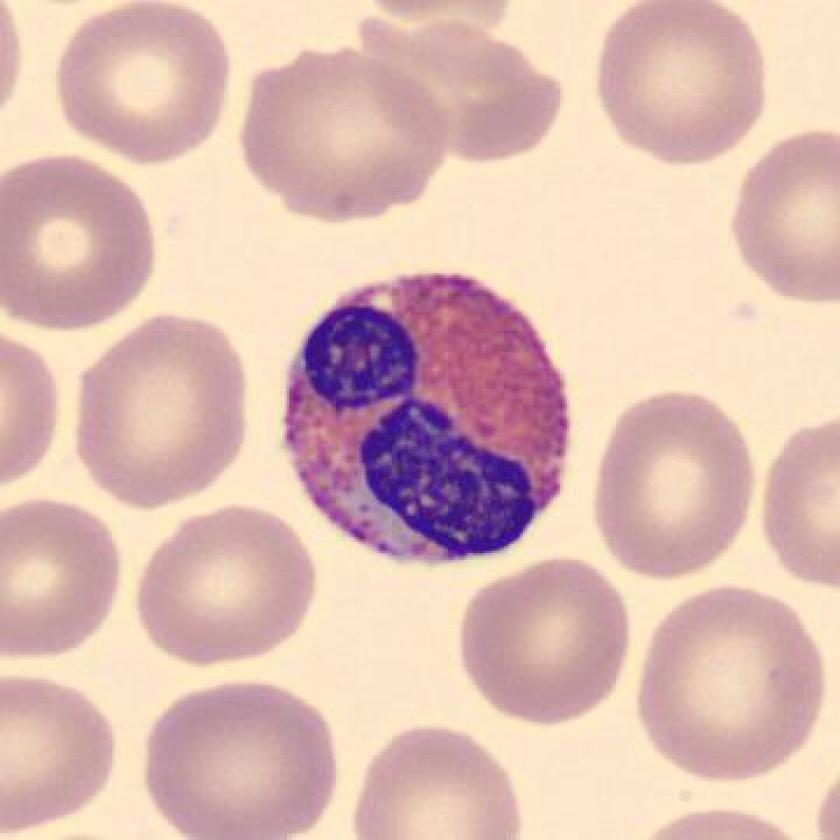eosinophil: (267, 256, 587, 584)
